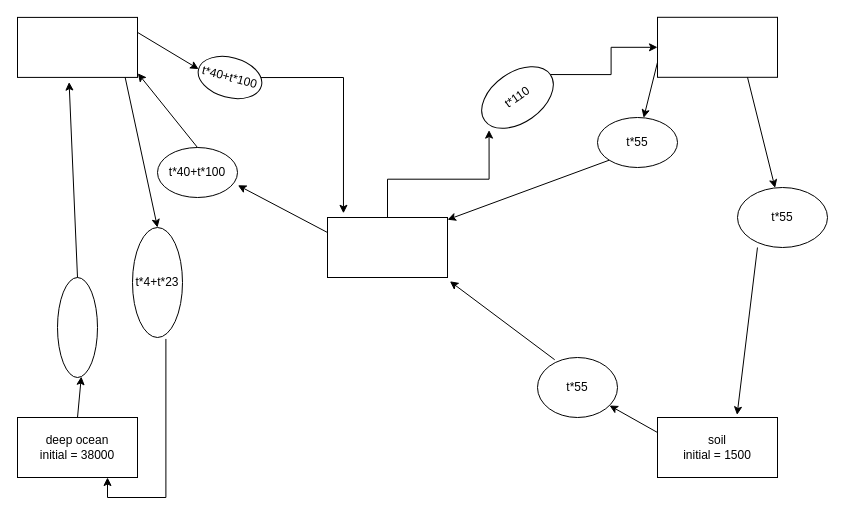
This 845x524 diagram has some shape labels left out. Here are the shapes that lost their labels. From the top down, the centre of each, then its label:
the point at 77,46: ocean surface initial = 800
the point at 717,46: terrestrial biosphere initial = 600
the point at 387,247: atmosphere initial = 750
the point at 77,327: t*27
